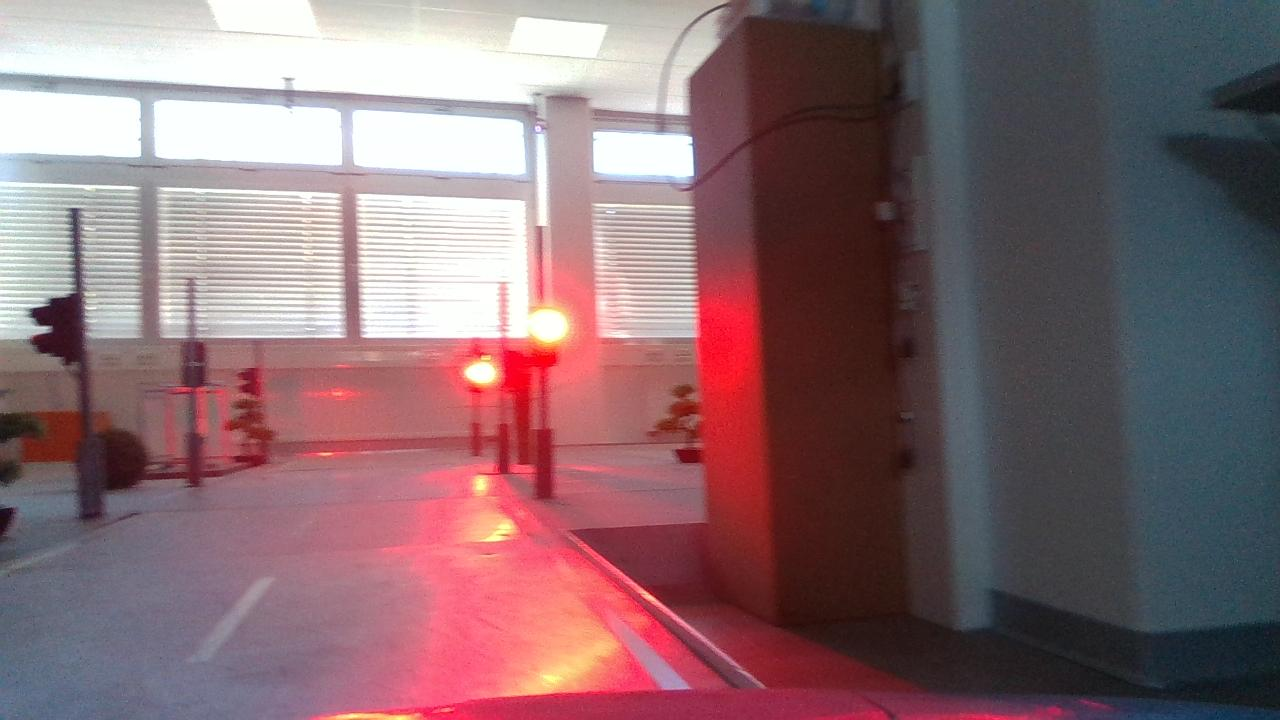traffic_light_red: (515, 299, 575, 386)
